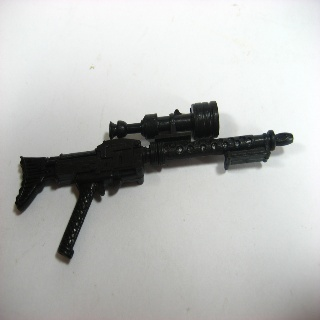rifle: (13, 97, 295, 260)
